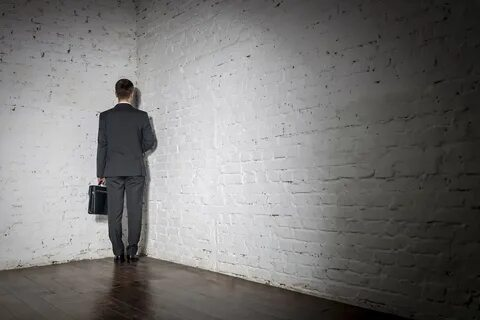awake: (96, 78, 155, 264)
